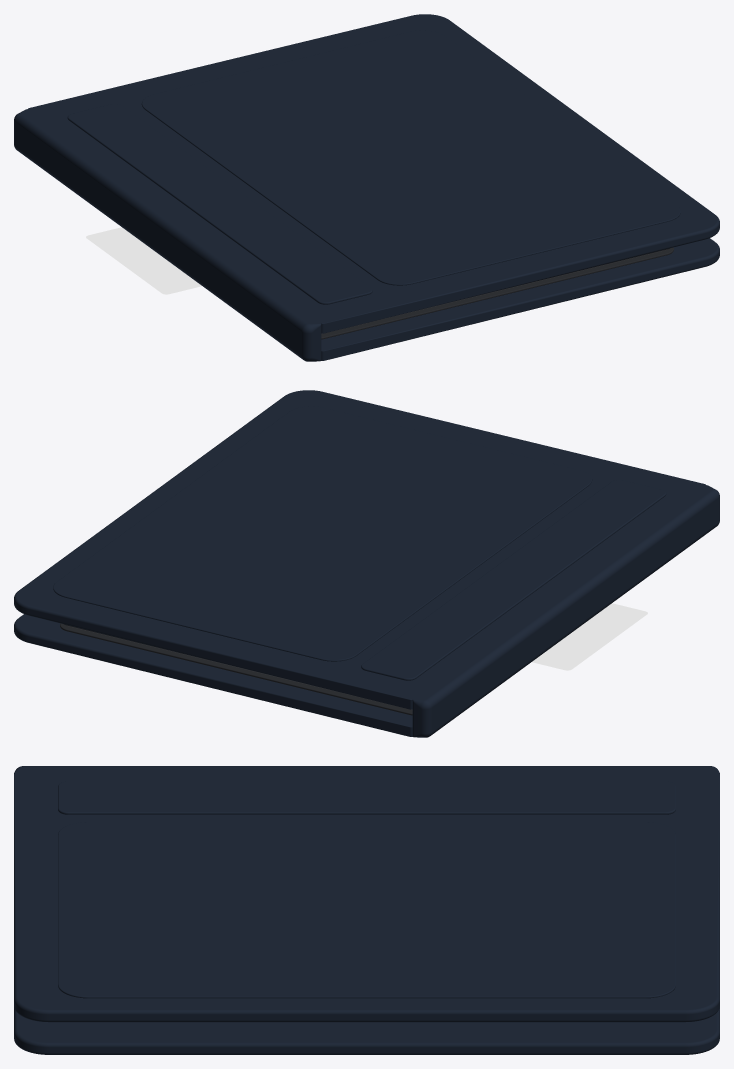
File: album-3h.glb
The picture shows the model from 3 angles, top to bottom: view 1: azimuth 30°, elevation 25°; view 2: azimuth 150°, elevation 25°; view 3: azimuth 270°, elevation 25°; orthographic projection. The views are drawn at different scales.
Visible parts, largest first — view 1: Tapa_Panel, Tapa_Malla, Lomo, Tapa_Banda, Contratapa, Plantilla_Carta_F, Hoja_2_Losa; view 2: Tapa_Panel, Tapa_Malla, Lomo, Tapa_Banda, Contratapa, Plantilla_Carta_F, Hoja_2_Losa; view 3: Tapa_Panel, Tapa_Malla, Contratapa, Tapa_Banda, Lomo.
Boxes of the visible parts, x1,y1,x2,y2 form: Tapa_Panel: (141, 30, 680, 285); Tapa_Malla: (28, 14, 719, 333); Lomo: (14, 109, 321, 361); Tapa_Banda: (67, 104, 372, 304); Contratapa: (321, 238, 719, 360); Plantilla_Carta_F: (86, 227, 201, 294); Hoja_2_Losa: (321, 247, 673, 339); Tapa_Panel: (53, 406, 592, 661); Tapa_Malla: (14, 390, 705, 709); Lomo: (412, 485, 719, 737); Tapa_Banda: (361, 480, 666, 680); Contratapa: (14, 614, 412, 736); Plantilla_Carta_F: (532, 603, 647, 670); Hoja_2_Losa: (60, 623, 412, 715); Tapa_Panel: (58, 822, 675, 998); Tapa_Malla: (14, 772, 719, 1022); Contratapa: (14, 1007, 719, 1054); Tapa_Banda: (58, 781, 675, 814); Lomo: (14, 766, 719, 773).
Bounding box in the file's own units: 0.2895 × 0.0237 × 0.322.
